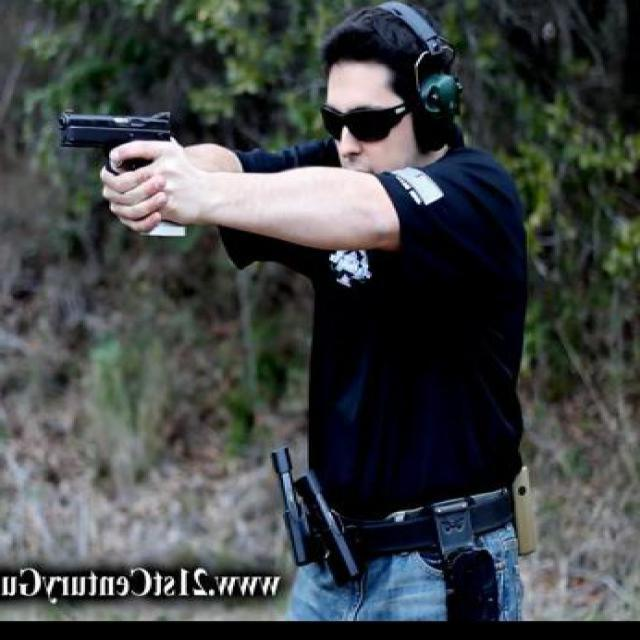weapon: (58, 108, 188, 238)
